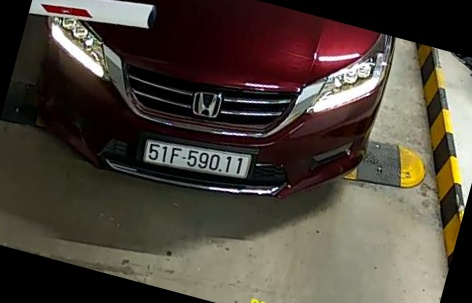plate: (138, 133, 258, 186)
